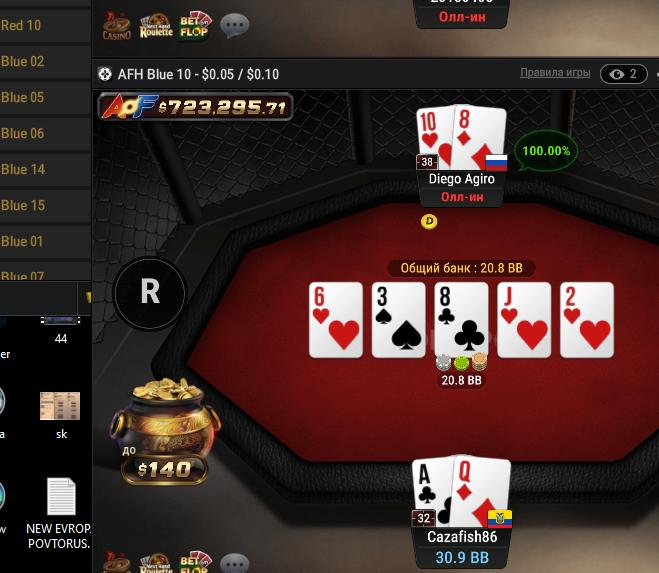10h: (416, 108, 454, 168)
2h: (561, 282, 613, 358)
3s: (372, 282, 426, 358)
6h: (308, 283, 363, 356)
8c: (435, 284, 489, 358)
8d: (453, 105, 509, 172)
Ac: (411, 455, 454, 530)
Jh: (497, 282, 551, 356)
Qd: (453, 455, 512, 530)
